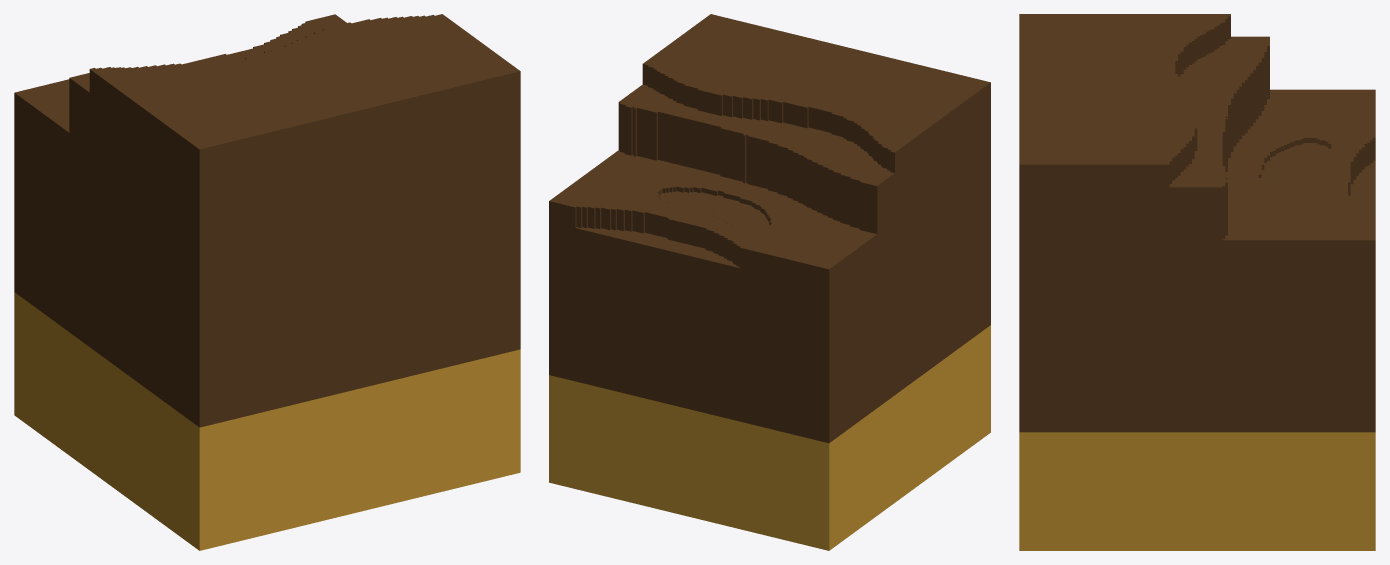
3 renders of one model, left to right at view 1: azimuth 30°, elevation 25°; view 2: azimuth 150°, elevation 25°; view 3: azimuth 270°, elevation 25°, orthographic. The views are drawn at different scales.
Visible parts, largest first — view 1: 7P; view 2: 7P; view 3: 7P.
Part boxes in pixels (x1,y1,x2,y2): 7P: [14, 14, 520, 550]; 7P: [549, 14, 990, 550]; 7P: [1019, 14, 1375, 550].
Size of the model in its own units: 12.8 by 15.3 by 12.8.
Materials: 1 (1 with a texture image).
